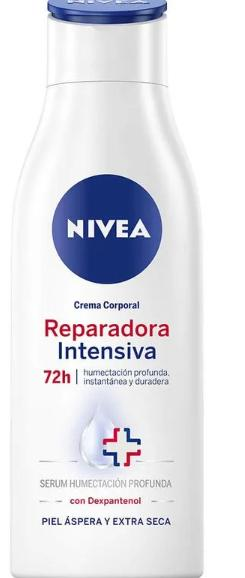brand: (58, 214, 154, 248)
extra_detail: (34, 313, 177, 362)
product_name: (70, 295, 148, 313)
